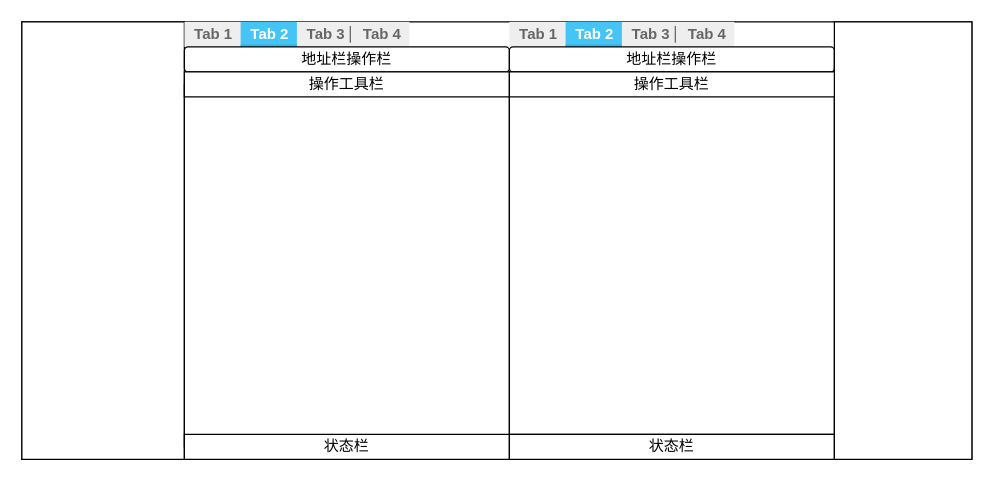
Some shapes in this 994 by 481 pixel diagram are drawn without their labels. The box of each missing label's shape, as (x1, y1, x2, y2) in pixels:
Right Pin目录内容: (508, 71, 834, 434)
主目录内容: (183, 83, 509, 447)
侧边栏(可收起): (833, 21, 972, 459)
导航树 （控制主目录区): (21, 21, 184, 459)
